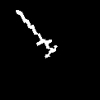double_crochet: (16, 10, 56, 56)
